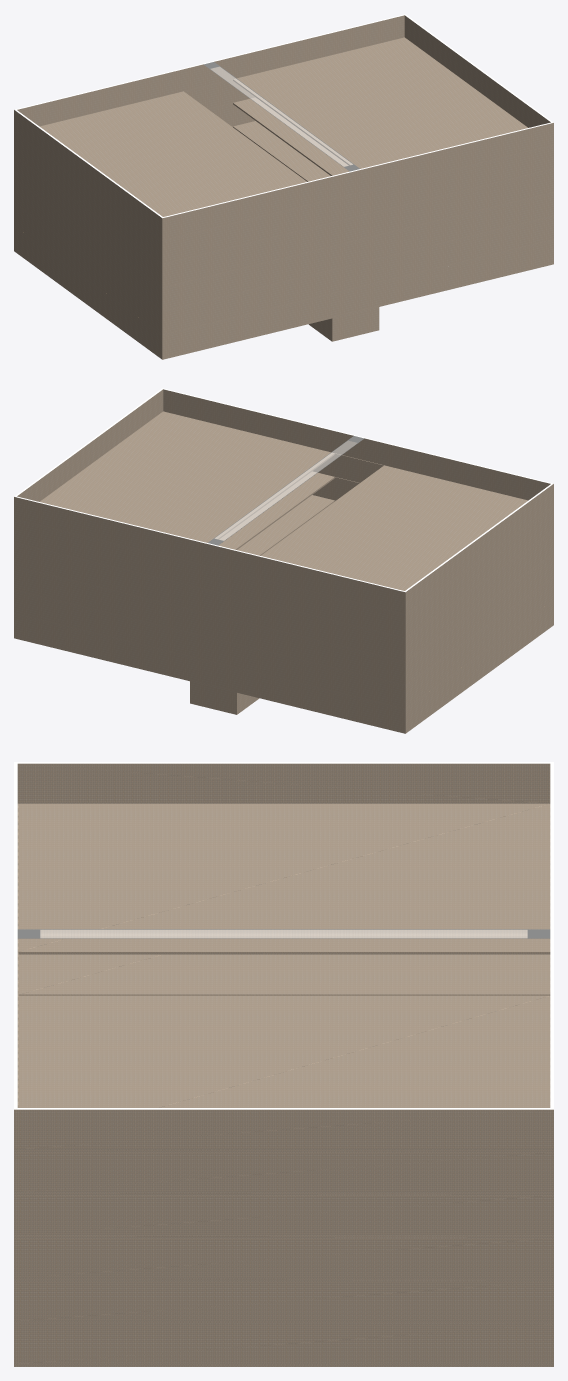
File: multi_floor_poolrooms_by_annie_free.glb
3 views of the same model, one above another, from view 1: azimuth 30°, elevation 25°; view 2: azimuth 150°, elevation 25°; view 3: azimuth 270°, elevation 25° (orthographic). The views are drawn at different scales.
Visible parts, largest first — view 1: AutoFloor.006_91, Wall.027_104, Wall.011_40, Wall.017_70, Wall.026_103, Wall.004_21, Wall.020_85, Wall.014_55, Wall.024_101, Wall.012_53, Wall.022_87, Wall.007_24 (+15 smaller); view 2: AutoFloor.006_91, Wall.026_103, Wall.009_38, Wall.016_69, Wall.027_104, Wall.005_22, Wall.021_86, Wall.015_56, Wall.024_101, Wall.012_53, Wall.007_24, Wall.010_39 (+15 smaller); view 3: AutoFloor.006_91, Wall.025_102, Wall.024_101, Wall.006_23, Wall.008_37, Wall.013_54, Wall.018_71, Wall.023_88, AutoFloor.005_75, Indigo_100, Slab.003_125, Slab.004_126 (+8 smaller).
Part boxes in pixels (box(x1,y1,x2,y2)): AutoFloor.006_91: box(40, 37, 527, 216); Wall.027_104: box(162, 122, 553, 240); Wall.011_40: box(162, 217, 553, 334); Wall.017_70: box(162, 170, 553, 287); Wall.026_103: box(15, 14, 405, 126); Wall.004_21: box(162, 241, 553, 358); Wall.020_85: box(162, 146, 553, 263); Wall.014_55: box(162, 193, 553, 310); Wall.024_101: box(14, 109, 162, 239); Wall.012_53: box(14, 180, 162, 310); Wall.022_87: box(14, 133, 162, 263); Wall.007_24: box(14, 228, 162, 357); AutoFloor.006_91: box(40, 411, 527, 590); Wall.026_103: box(14, 496, 405, 614); Wall.009_38: box(14, 591, 405, 708); Wall.016_69: box(14, 544, 405, 661); Wall.027_104: box(162, 388, 552, 500); Wall.005_22: box(14, 615, 405, 732); Wall.021_86: box(14, 520, 405, 637); Wall.015_56: box(14, 567, 405, 684); Wall.024_101: box(405, 483, 553, 613); Wall.012_53: box(405, 554, 553, 684); Wall.007_24: box(405, 602, 553, 731); Wall.010_39: box(405, 578, 553, 708); AutoFloor.006_91: box(17, 803, 550, 1107); Wall.025_102: box(14, 1108, 553, 1149); Wall.024_101: box(14, 762, 553, 803); Wall.006_23: box(14, 1324, 553, 1364); Wall.008_37: box(14, 1281, 553, 1321); Wall.013_54: box(14, 1238, 553, 1278); Wall.018_71: box(14, 1195, 553, 1235); Wall.023_88: box(14, 1152, 553, 1192); AutoFloor.005_75: box(18, 954, 550, 994); Indigo_100: box(17, 929, 550, 938); Slab.003_125: box(14, 1278, 553, 1281); Slab.004_126: box(14, 1235, 553, 1238).
Bounding box in the file's own units: 55.58 × 22.4 × 36.5.
12 materials, 2 textured.
